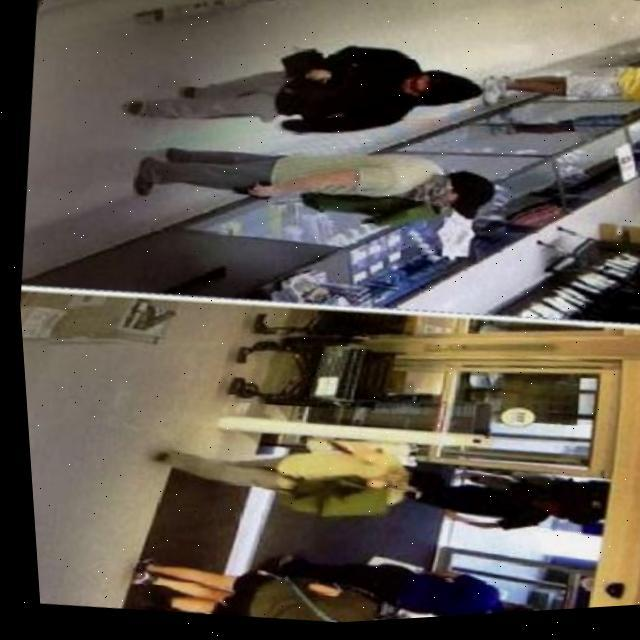gun: (230, 178, 274, 201)
